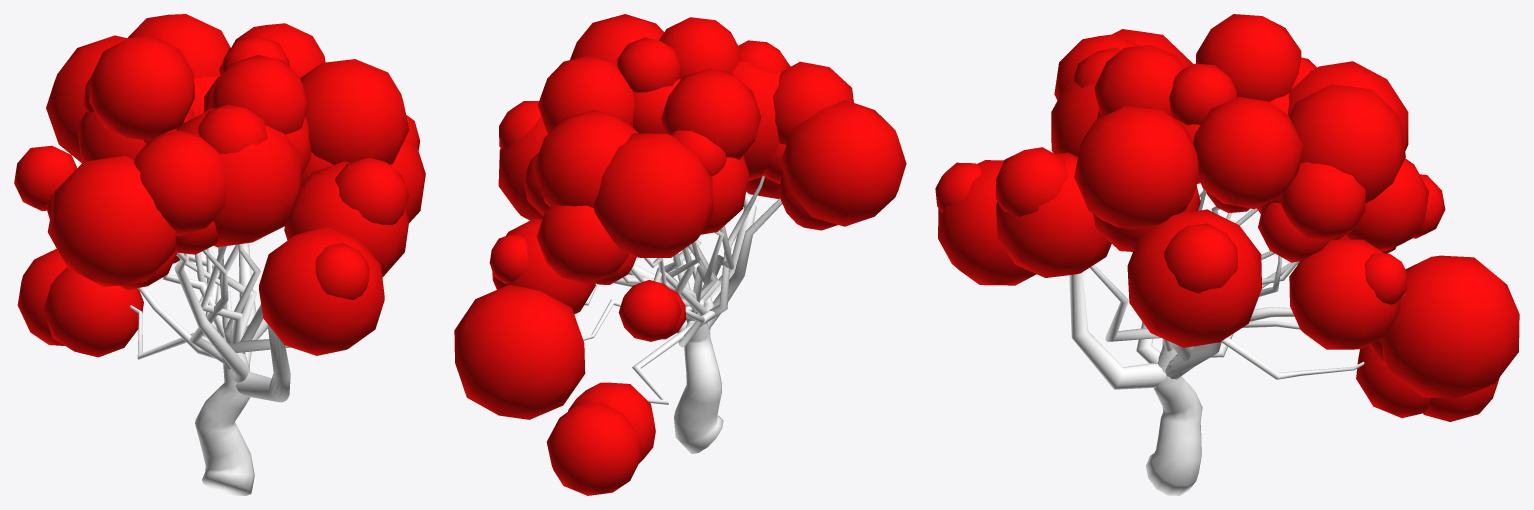
The model's file is BrisseidaTree.fbx.
3 views of the same model, side by side, from view 1: azimuth 30°, elevation 25°; view 2: azimuth 150°, elevation 25°; view 3: azimuth 270°, elevation 25° (orthographic). The views are drawn at different scales.
Parts seen in each view (by area): view 1: merge1; view 2: merge1; view 3: merge1.
Part boxes in pixels (x1,y1,x2,y2): merge1: (14,14,425,495); merge1: (454,14,906,495); merge1: (935,14,1519,495).
Size of the model in its own units: 16.25 by 17.72 by 20.87.
